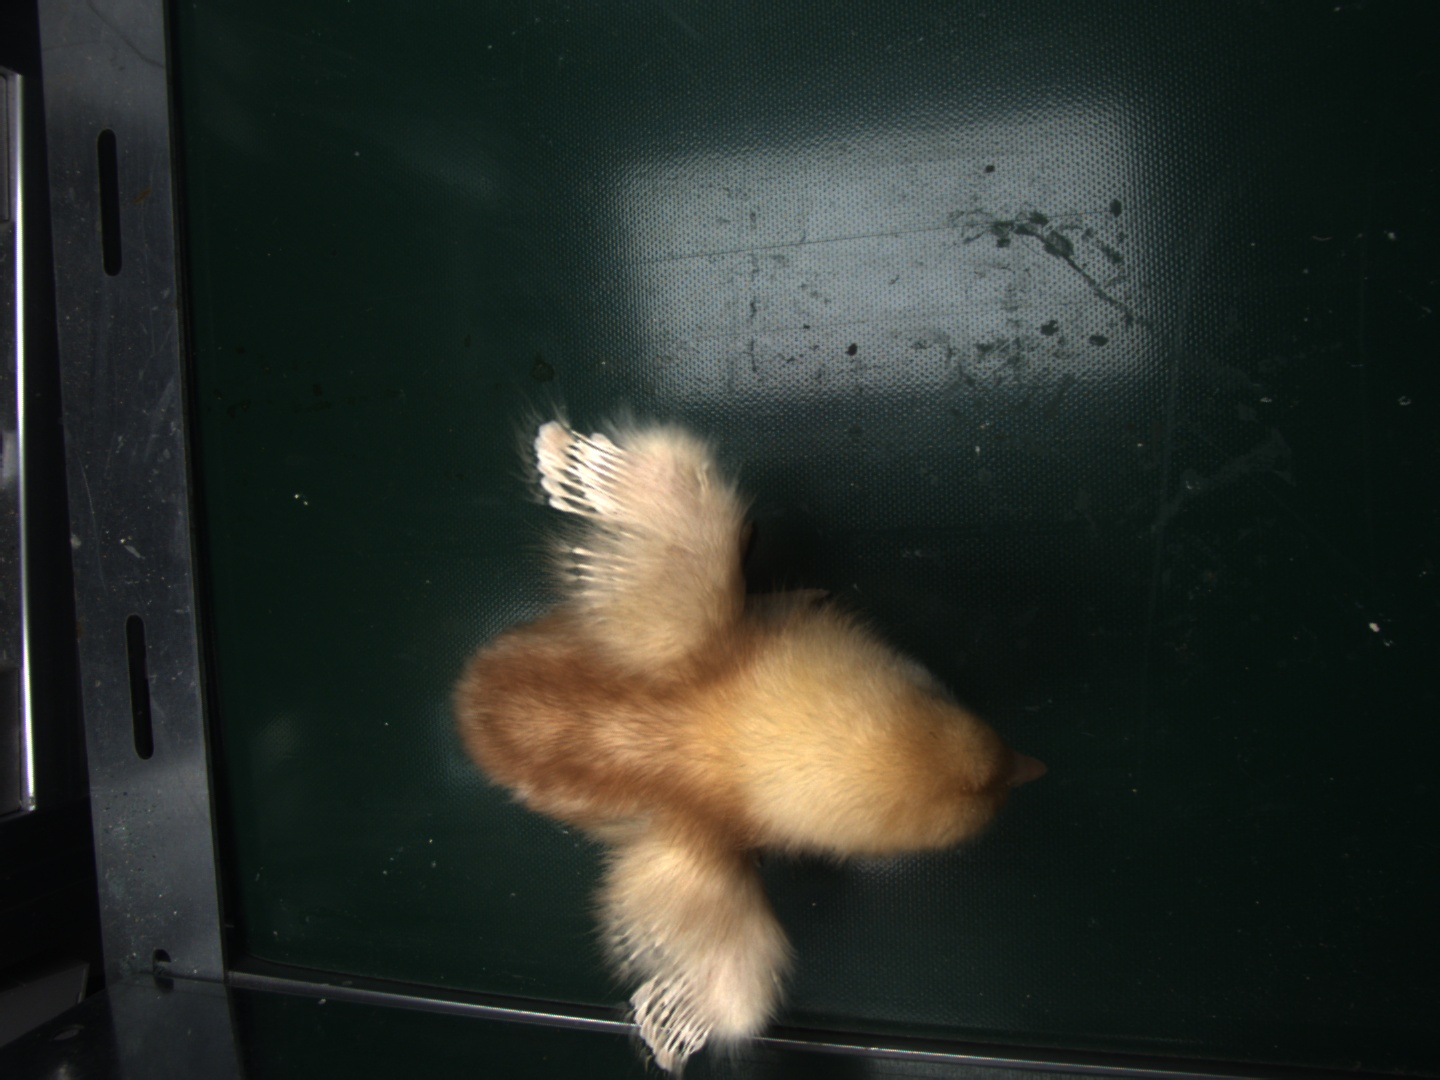female: (536, 419, 632, 520)
